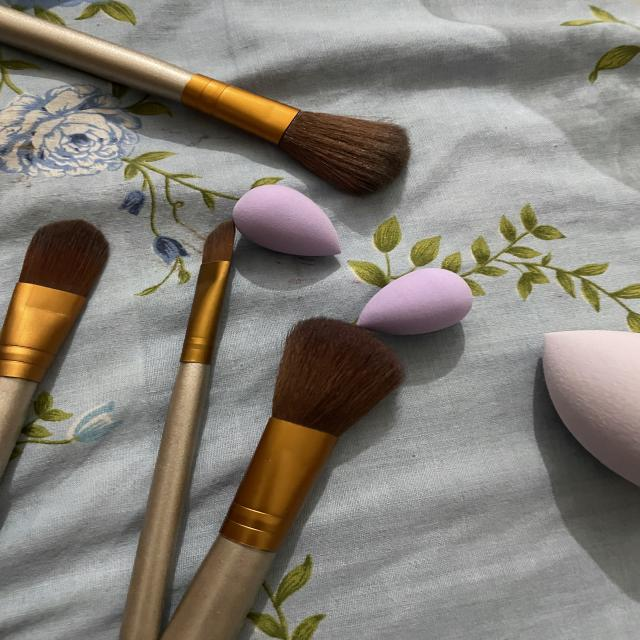beauty blender: (529, 310, 640, 506), (352, 256, 489, 369), (221, 173, 357, 267)
brush: (0, 0, 441, 193), (205, 310, 413, 640), (98, 213, 248, 626), (0, 212, 132, 424)
